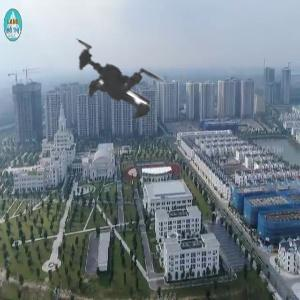drone: (25, 3, 202, 180)
